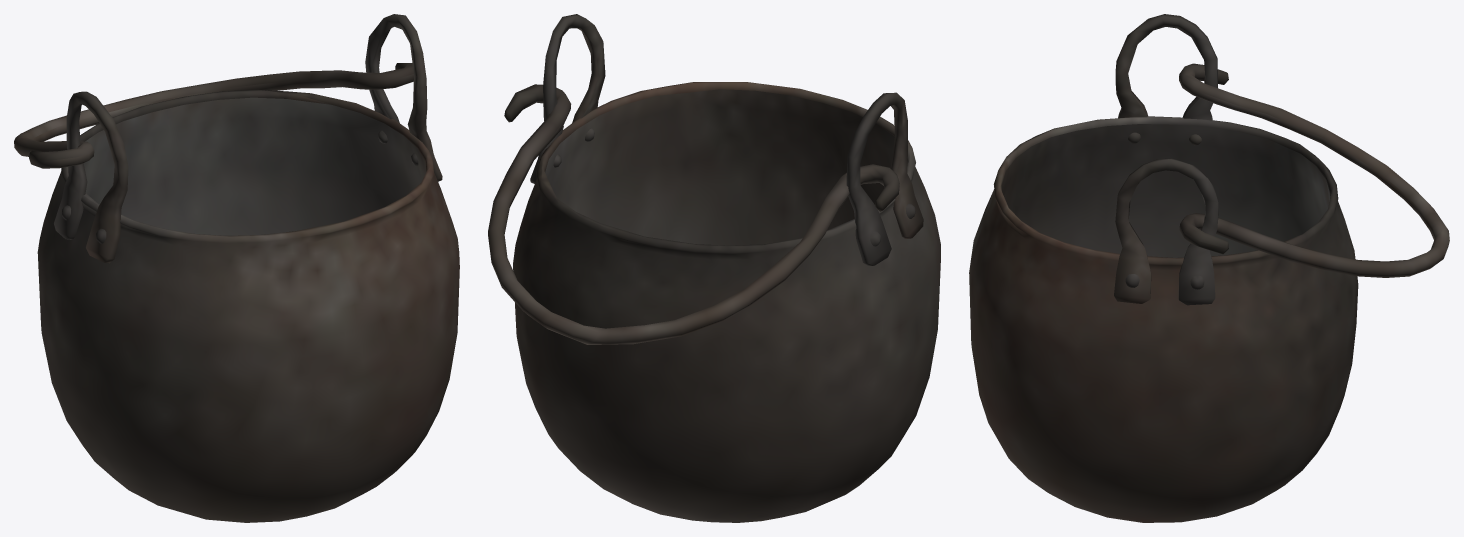
The model's file is CookingPot_01.fbx.
3 views of the same model, side by side, from view 1: azimuth 30°, elevation 25°; view 2: azimuth 150°, elevation 25°; view 3: azimuth 270°, elevation 25° (orthographic). The views are drawn at different scales.
Visible parts, largest first — view 1: CookingPot_01; view 2: CookingPot_01; view 3: CookingPot_01.
Part boxes in pixels (x1,y1,x2,y2): CookingPot_01: (14, 14, 459, 522); CookingPot_01: (488, 14, 940, 522); CookingPot_01: (969, 14, 1449, 522).
Size of what is drawn, in the model's own units: 39.96 by 44.36 by 46.85.
